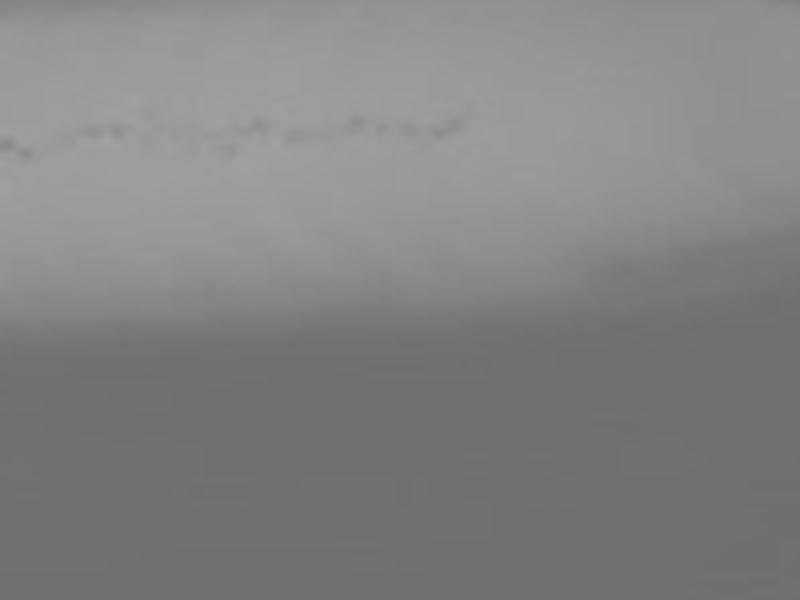defect: (232, 114, 276, 138), (342, 109, 369, 137), (73, 120, 102, 142), (426, 124, 451, 146), (106, 123, 132, 143), (447, 113, 470, 134), (282, 130, 312, 146), (219, 141, 241, 160), (376, 121, 394, 142), (396, 120, 416, 138), (1, 137, 17, 157), (20, 149, 37, 164)
